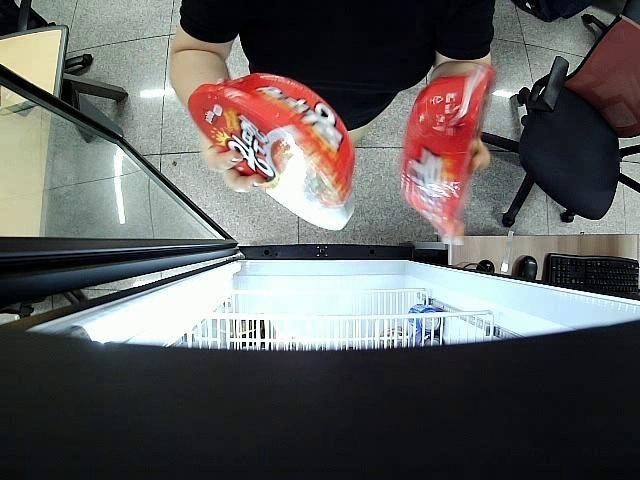10_wangTtukkeong: (188, 73, 358, 232), (396, 66, 496, 239)
